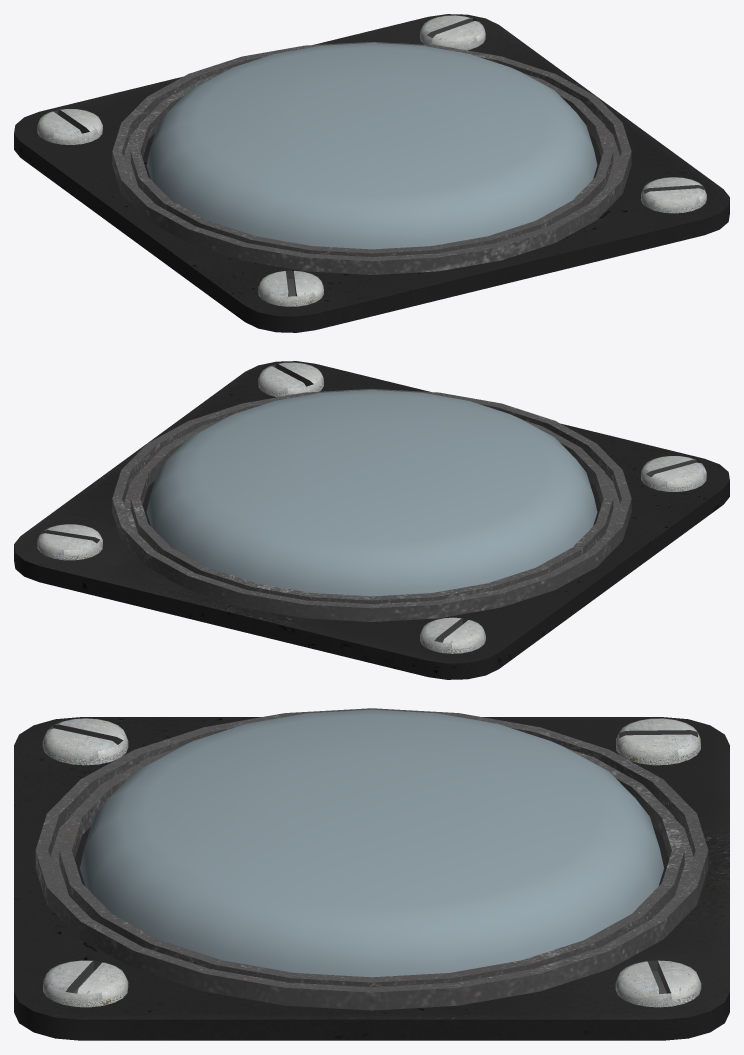
File: F_Diode_01.fbx
3 views of the same model, one above another, from view 1: azimuth 30°, elevation 25°; view 2: azimuth 150°, elevation 25°; view 3: azimuth 270°, elevation 25° (orthographic). The views are drawn at different scales.
Parts seen in each view (by area): view 1: F_Diode_01; view 2: F_Diode_01; view 3: F_Diode_01.
Part boxes in pixels (x1=…): F_Diode_01: x1=14, y1=14, x2=729, y2=332; F_Diode_01: x1=14, y1=361, x2=729, y2=679; F_Diode_01: x1=14, y1=708, x2=729, y2=1040.
Size of the model in its own units: 30.04 by 4.22 by 30.04.
Materials: 2 (2 with a texture image).
